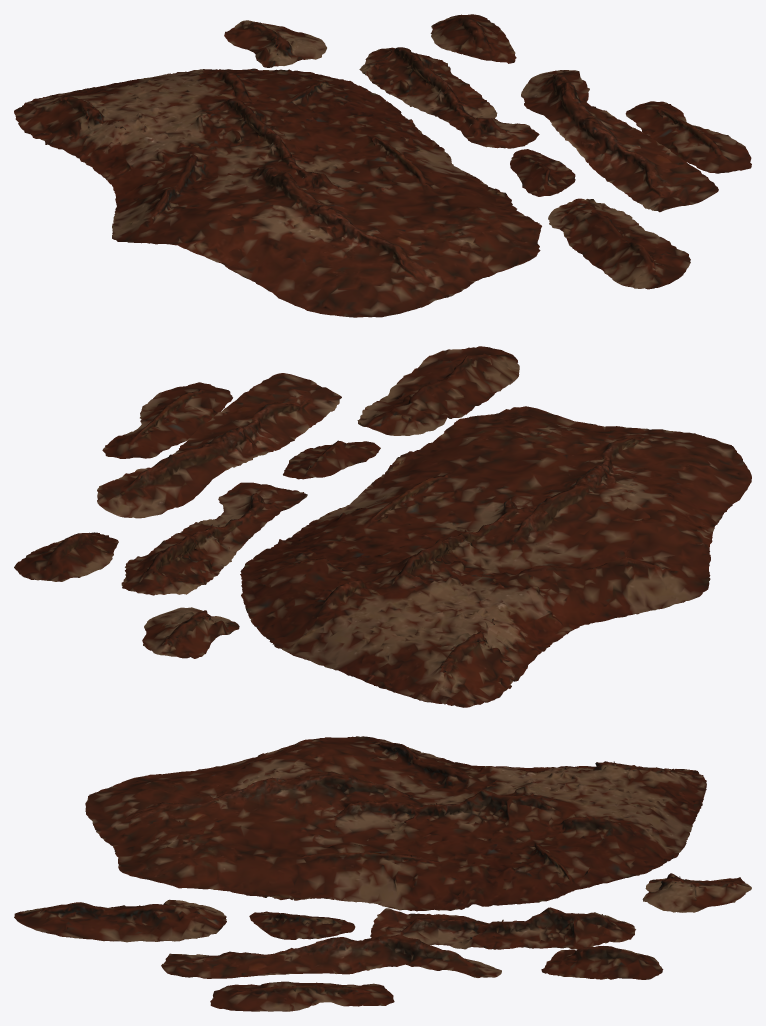
File: root_cluster_02.glb
3 renders of one model, top to bottom at view 1: azimuth 30°, elevation 25°; view 2: azimuth 150°, elevation 25°; view 3: azimuth 270°, elevation 25°, orthographic. The views are drawn at different scales.
Visible parts, largest first — view 1: root_cluster_02_d; view 2: root_cluster_02_d; view 3: root_cluster_02_d.
Part boxes in pixels (x1,y1,x2,y2): root_cluster_02_d: (14, 14, 751, 317); root_cluster_02_d: (14, 346, 751, 707); root_cluster_02_d: (14, 736, 751, 1011).
Size of the model in its own units: 2.38 by 0.1982 by 2.71.
1 material, 1 textured.
